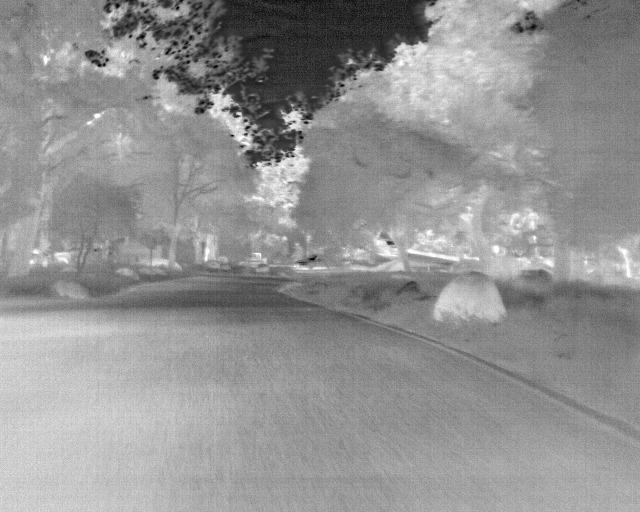car: (296, 253, 334, 270)
